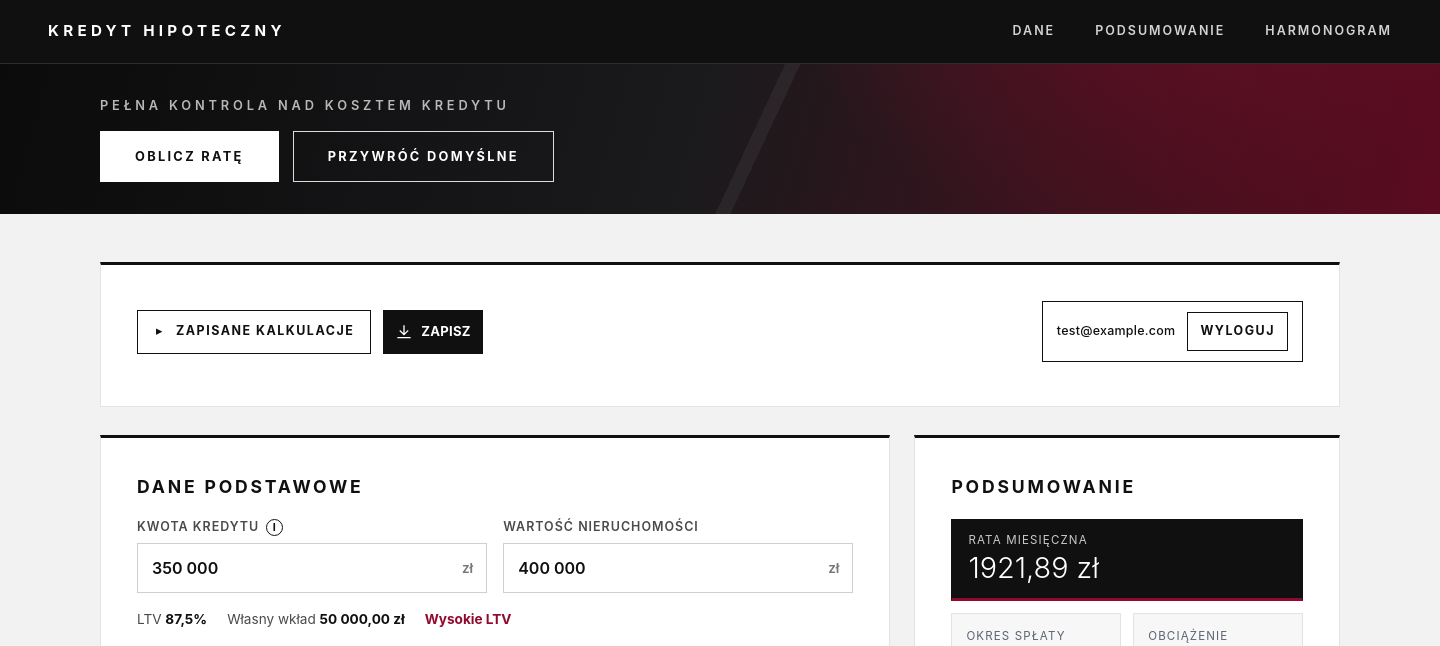
Test case: save button behavior › keeps the save button active right after login and clicking it opens the name field
Expected: the button "▸ Zapisane kalkulacje" is shown, x1=137 y1=310 x2=371 y2=354
Expected: the field with placeholder "Nazwa kalkulacji" is not shown
Step 1. Click the button with class "save-disk-button" → (433,332), box x1=383 y1=310 x2=483 y2=354
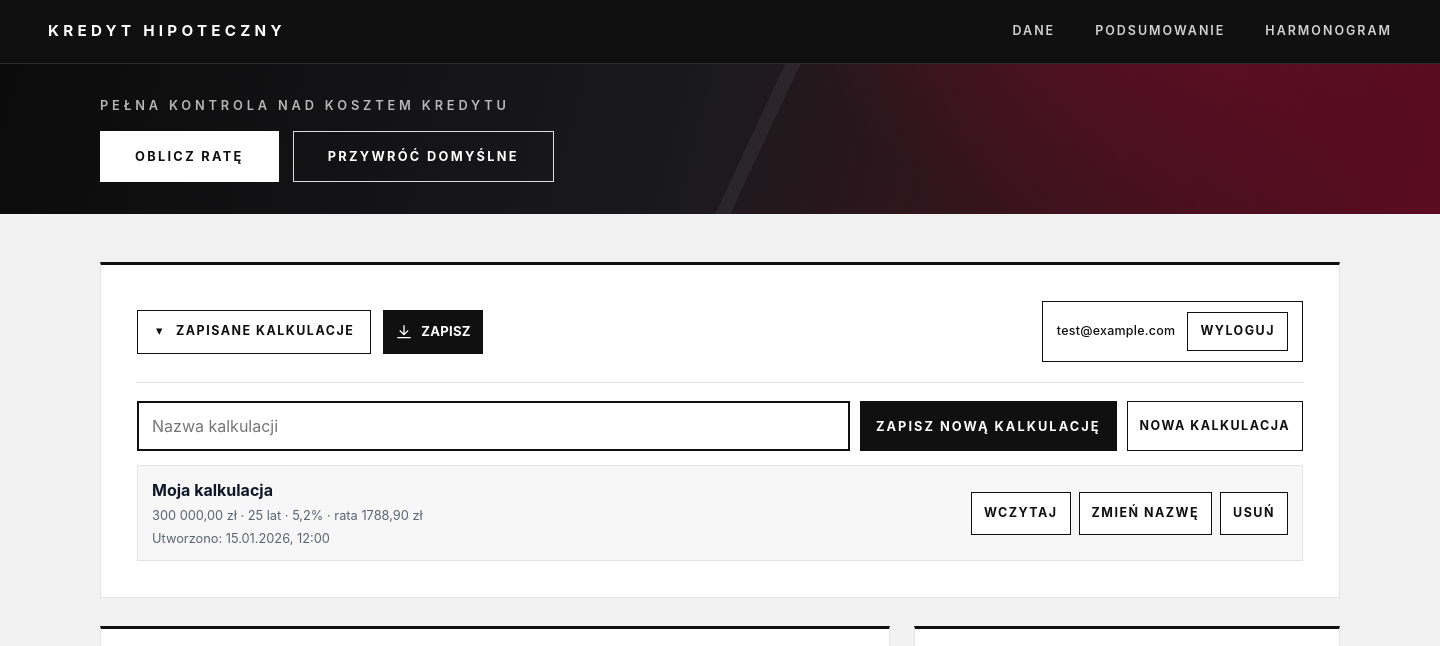
Now the field with placeholder "Nazwa kalkulacji" is shown, box x1=137 y1=401 x2=850 y2=451
